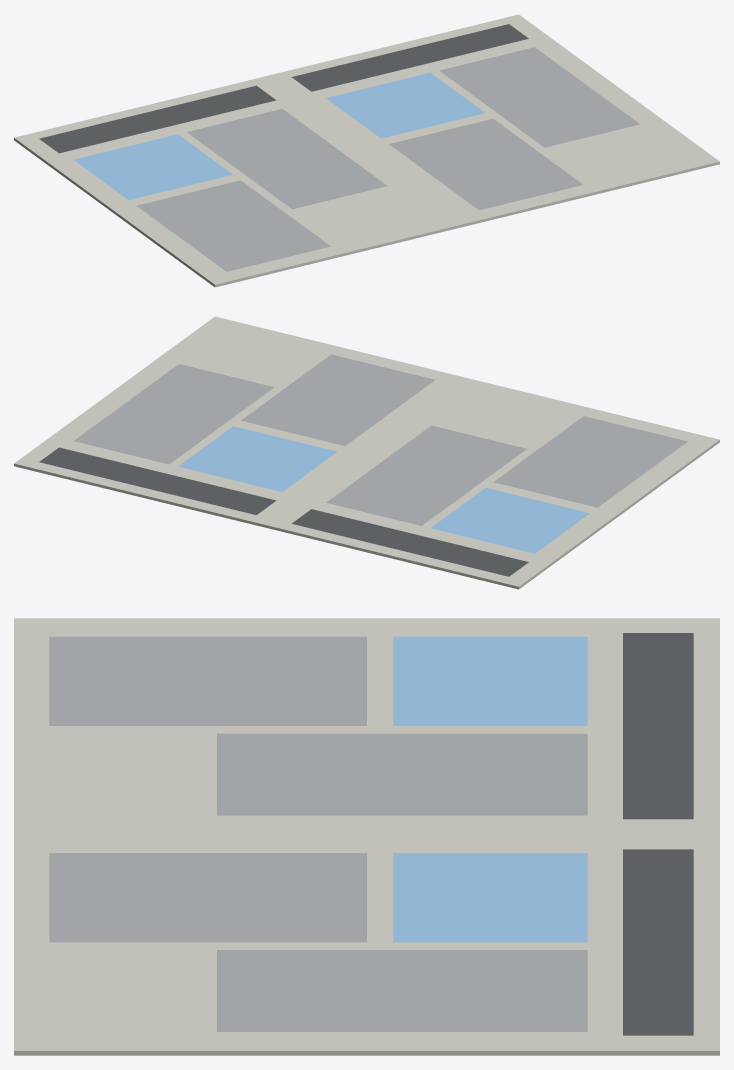
Rendered from Newspaper.fbx.
3 renders of one model, top to bottom at view 1: azimuth 30°, elevation 25°; view 2: azimuth 150°, elevation 25°; view 3: azimuth 270°, elevation 25°, orthographic. The views are drawn at different scales.
Visible parts, largest first — view 1: Newspaper; view 2: Newspaper; view 3: Newspaper.
Boxes of the visible parts, bbox=[...] form: Newspaper: bbox=[14, 14, 719, 287]; Newspaper: bbox=[14, 316, 719, 589]; Newspaper: bbox=[14, 618, 719, 1055].
Bounding box in the file's own units: 0.58 × 0.0032 × 0.4.
